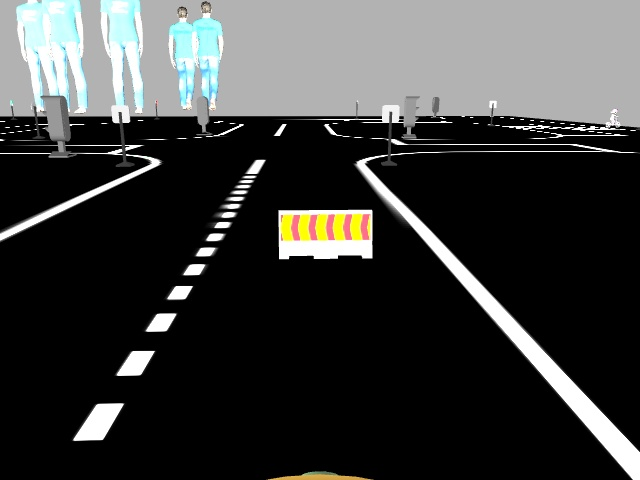ClosedRoadStand: (278, 210, 372, 257)
